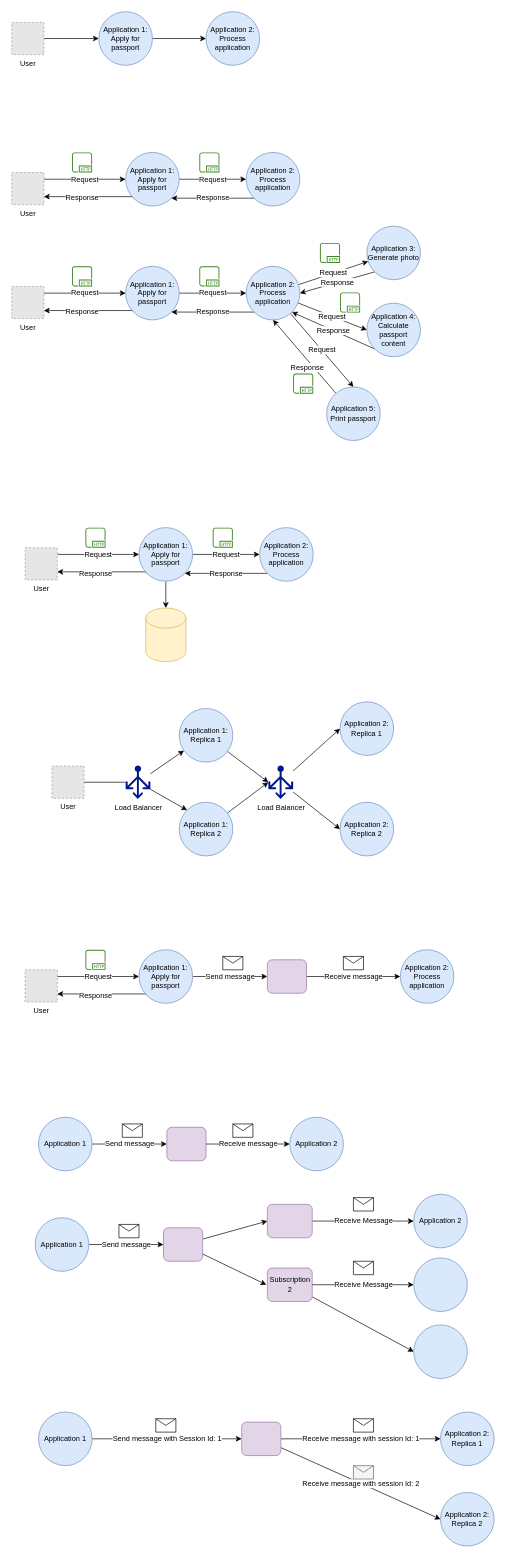
This 506x1558 diagram has some shape labels left out. Grey dashed boxes stand in for pictures. The shapes that lost their labels are listed below. From the top down, each one's box as (x1, y1, x2, y2) in pixels, then its label:
(145, 607, 186, 662): Application data
(267, 959, 307, 993): Message Broker
(166, 1127, 206, 1161): Queue
(267, 1204, 312, 1238): Subscription 1
(163, 1227, 203, 1261): Topic
(413, 1257, 467, 1312): Application 3: Replica 1
(413, 1324, 467, 1379): Application 3: Replica 2
(241, 1421, 281, 1456): Session Queue
